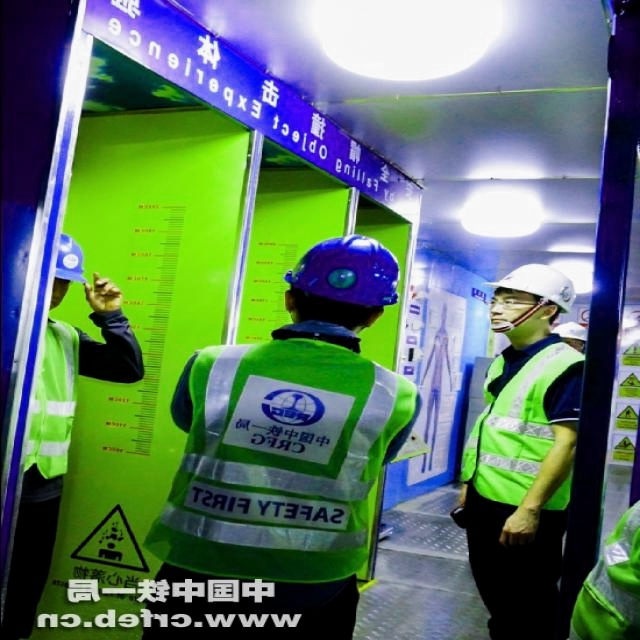Con_Chaleco: (163, 345, 414, 583), (457, 343, 587, 529)
